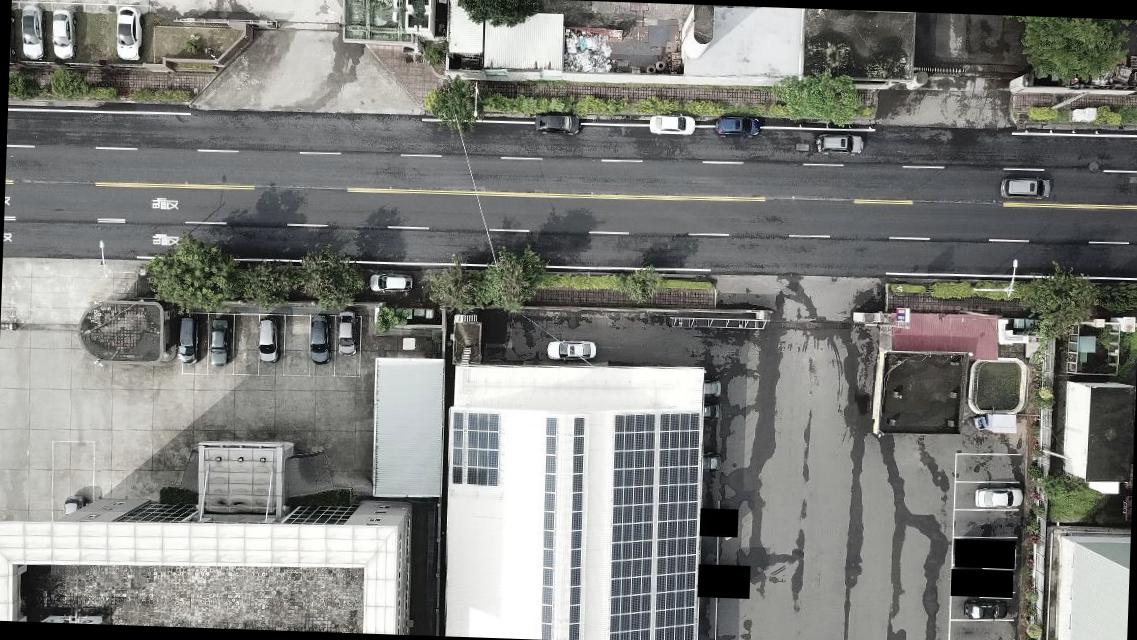vehicle: (113, 4, 144, 63), (18, 2, 48, 60), (48, 6, 76, 64), (542, 335, 596, 363), (305, 316, 334, 368), (174, 311, 201, 363), (998, 175, 1052, 201), (254, 314, 280, 365), (208, 318, 233, 370), (974, 484, 1022, 510), (334, 310, 359, 358), (366, 271, 416, 295), (712, 112, 758, 138), (817, 132, 863, 158), (648, 112, 696, 136), (534, 110, 578, 136), (962, 598, 1006, 622), (60, 494, 86, 520), (702, 398, 722, 422), (700, 452, 722, 473), (700, 378, 723, 398)
